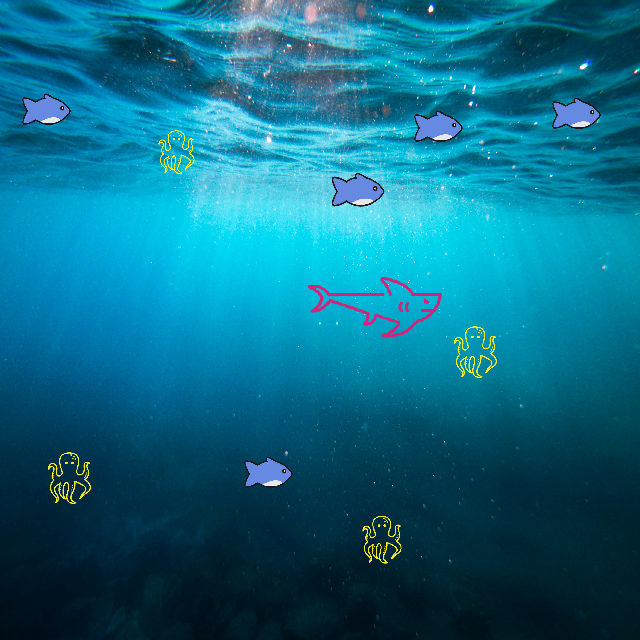target fish: (305, 275, 443, 338)
